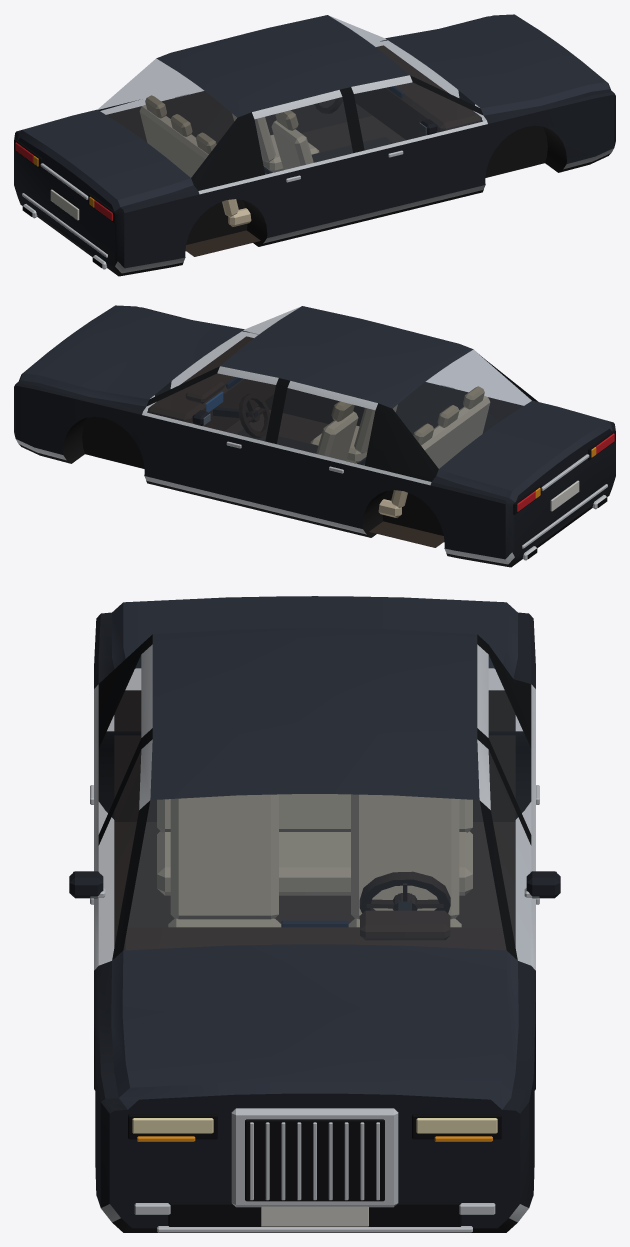
The model's file is monarch.glb.
3 views of the same model, one above another, from view 1: azimuth 30°, elevation 25°; view 2: azimuth 150°, elevation 25°; view 3: azimuth 270°, elevation 25° (orthographic). The views are drawn at different scales.
Parts seen in each view (by area): view 1: Body, Glass, Interior; view 2: Body, Glass, Interior; view 3: Body, Glass, Interior, HeadLights.
Boxes of the visible parts, <box> form: Body: <box>14,14,615,276</box>; Glass: <box>98,16,486,177</box>; Interior: <box>107,45,482,256</box>; Body: <box>14,305,615,567</box>; Glass: <box>143,307,531,468</box>; Interior: <box>147,336,522,547</box>; Body: <box>69,596,560,1232</box>; Glass: <box>99,656,530,965</box>; Interior: <box>114,690,515,950</box>; HeadLights: <box>132,1118,497,1133</box>.
Bounding box in the file's own units: 5.2 × 1.29 × 2.18.
